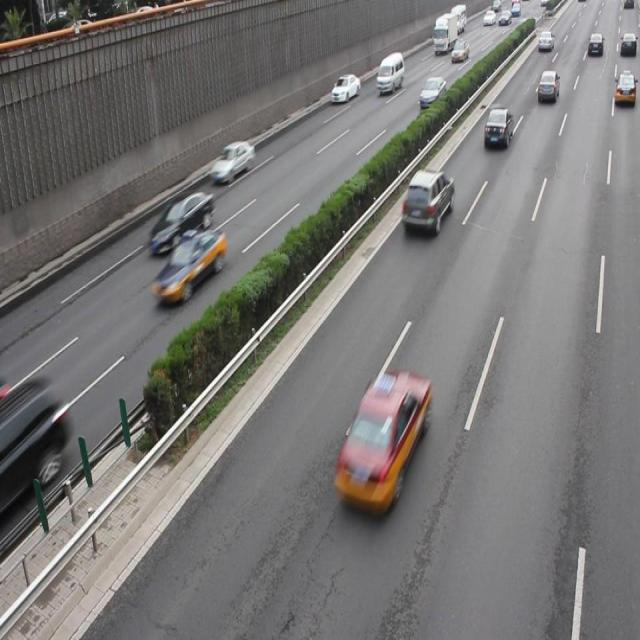car: (335, 366, 430, 514), (0, 380, 64, 508), (151, 224, 225, 303), (147, 186, 214, 256), (400, 166, 453, 236), (209, 138, 254, 183), (482, 105, 514, 150), (418, 76, 444, 112)
